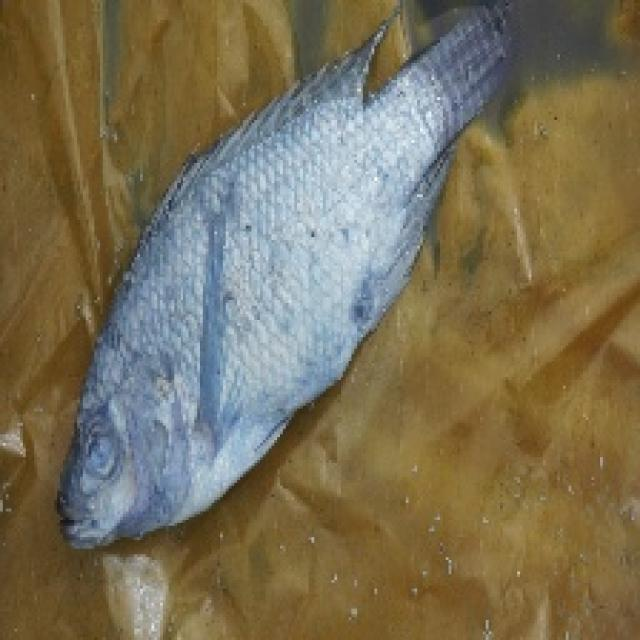Non-Fresh: (73, 22, 509, 554)
